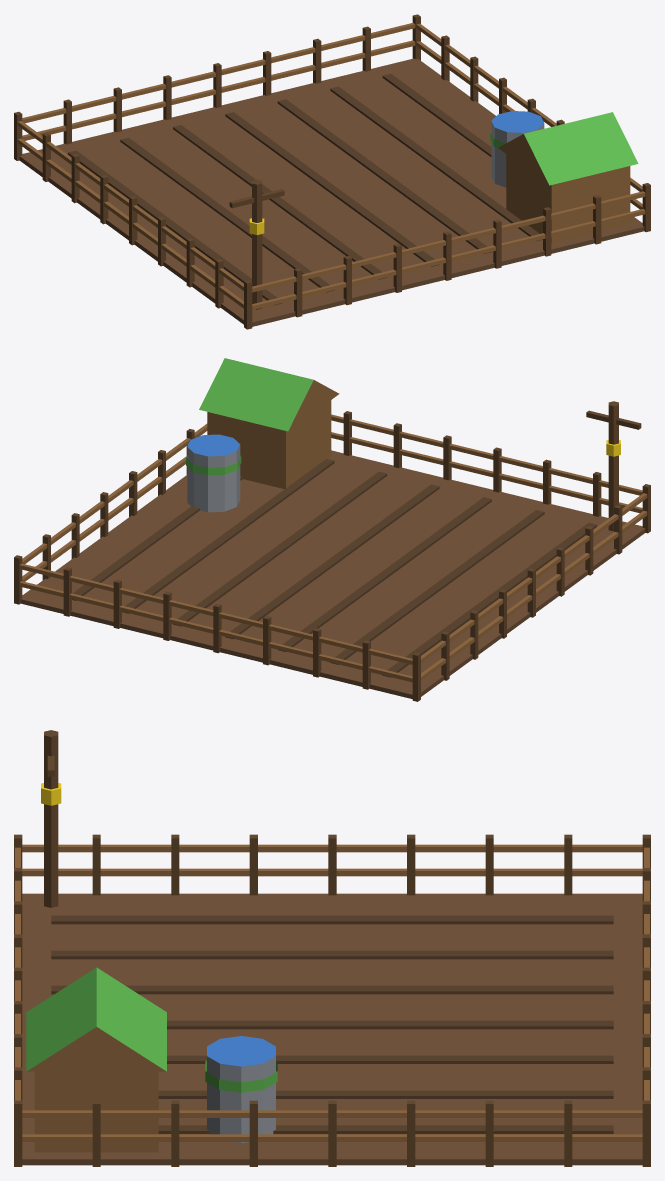
Rendered from forester.glb.
The picture shows the model from 3 angles, top to bottom: view 1: azimuth 30°, elevation 25°; view 2: azimuth 150°, elevation 25°; view 3: azimuth 270°, elevation 25°; orthographic projection. The views are drawn at different scales.
Parts seen in each view (by area): view 1: forester; view 2: forester; view 3: forester.
Part boxes in pixels (left/top/right/bottom): forester: left=14, top=14, right=650, bottom=329; forester: left=14, top=358, right=650, bottom=701; forester: left=14, top=730, right=650, bottom=1166.
Bounding box in the file's own units: 3.87 × 1.2 × 3.85.
